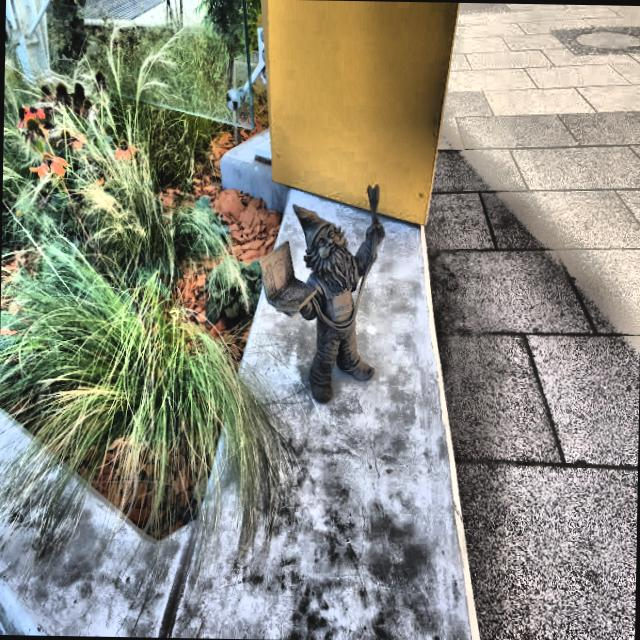Krasnal_Teleclaw: (260, 186, 384, 401)
